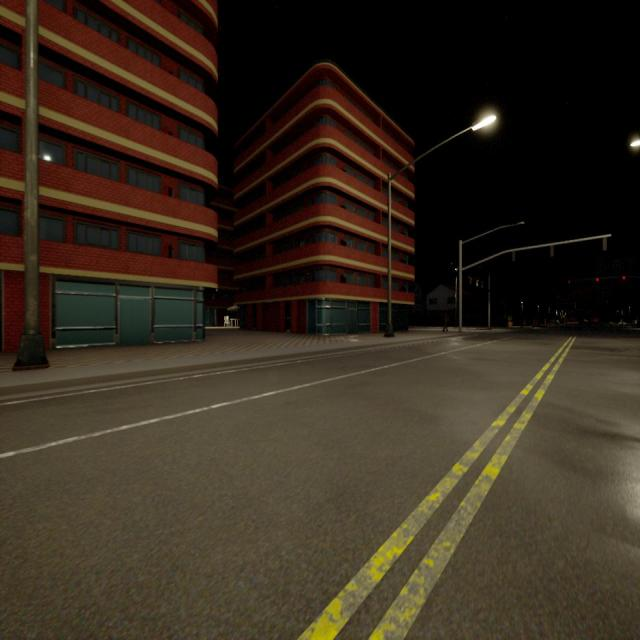Pedestrian: (443, 313, 448, 331)
Vehicle: (563, 317, 579, 331), (591, 316, 599, 324)
traffic_light: (602, 238, 607, 250), (550, 246, 554, 256), (513, 251, 515, 261), (622, 276, 626, 280), (595, 278, 599, 281), (568, 280, 570, 283)
